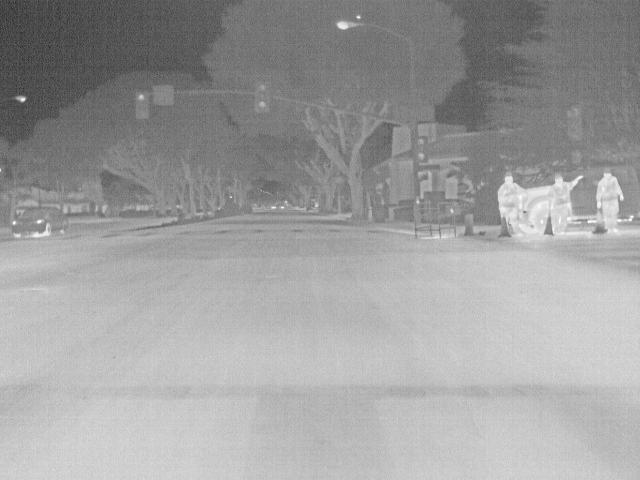car: (11, 206, 68, 240)
person: (595, 164, 624, 233), (496, 170, 521, 236), (548, 170, 572, 235)
